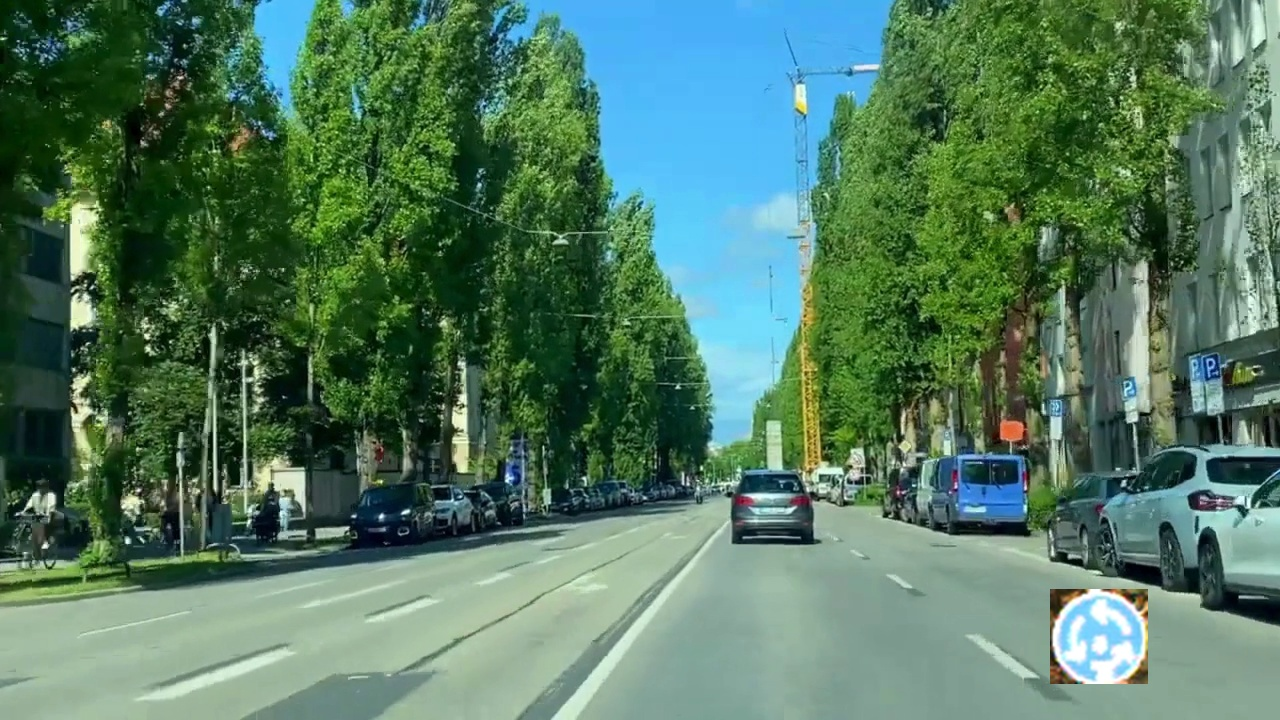Roundabout: (1050, 589, 1148, 684)
